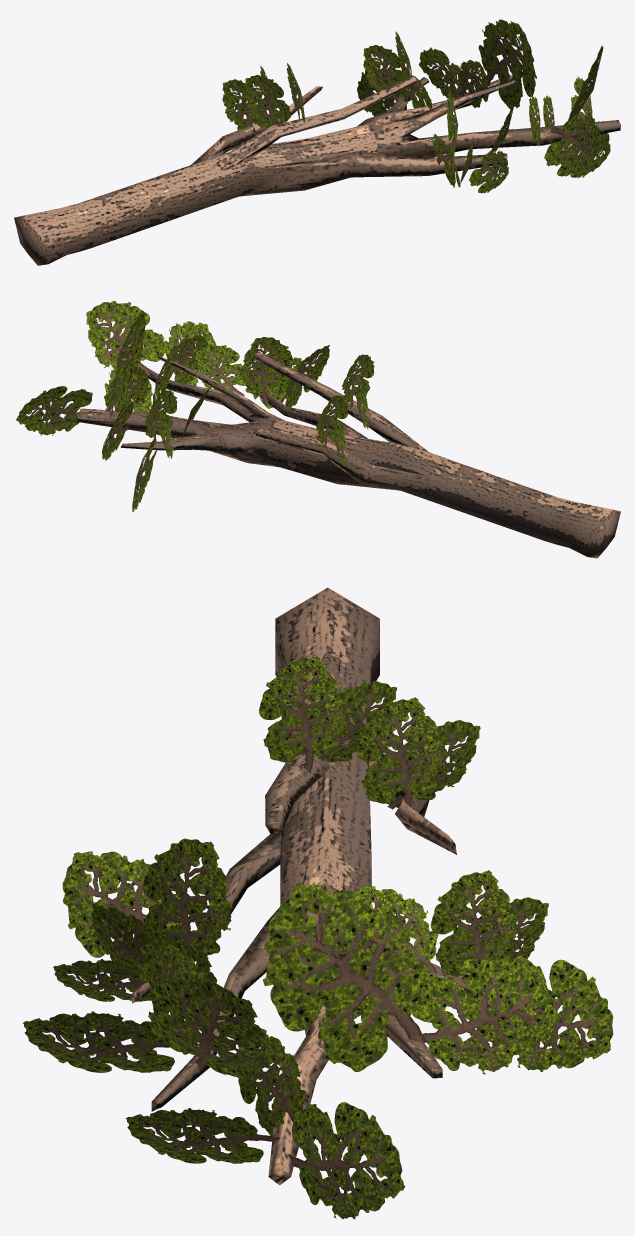
File: FallenTree.fbx
3 views of the same model, one above another, from view 1: azimuth 30°, elevation 25°; view 2: azimuth 150°, elevation 25°; view 3: azimuth 270°, elevation 25° (orthographic). The views are drawn at different scales.
Parts seen in each view (by area): view 1: polySurface8, pPlane15, pPlane8, pPlane22, pPlane19, pPlane14, pPlane20, pPlane4, pPlane13, pPlane16, pPlane2, pPlane18 (+6 smaller); view 2: polySurface8, pPlane7, pPlane10, pPlane3, pPlane15, pPlane5, pPlane9, pPlane2, pPlane8, pPlane23, pPlane21, pPlane17 (+5 smaller); view 3: polySurface8, pPlane15, pPlane14, pPlane10, pPlane7, pPlane3, pPlane16, pPlane23, pPlane21, pPlane8, pPlane17, pPlane2 (+10 smaller).
Part boxes in pixels (x1,y1,x2,y2): polySurface8: (14,75,620,265); pPlane15: (478,19,536,108); pPlane8: (544,114,601,176); pPlane22: (245,74,290,127); pPlane19: (363,45,403,100); pPlane14: (419,47,467,98); pPlane20: (222,79,267,135); pPlane4: (469,150,508,193); pPlane13: (458,60,488,107); pPlane16: (357,69,411,116); pPlane2: (432,134,460,187); pPlane18: (396,73,432,109); polySurface8: (76,352,620,558); pPlane7: (86,301,165,377); pPlane10: (16,386,92,435); pPlane3: (240,337,293,404); pPlane15: (110,311,145,418); pPlane5: (196,344,245,396); pPlane9: (164,334,208,383); pPlane2: (280,345,329,407); pPlane8: (164,321,215,385); pPlane23: (341,354,374,408); pPlane21: (315,395,348,447); pPlane17: (145,390,177,444); polySurface8: (131,587,509,1185); pPlane15: (262,882,429,1071); pPlane14: (411,959,559,1074); pPlane10: (287,1102,405,1219); pPlane7: (148,976,267,1079); pPlane3: (142,838,232,956); pPlane16: (487,955,613,1071); pPlane23: (258,656,346,773); pPlane21: (357,697,444,807); pPlane8: (23,1011,174,1072); pPlane17: (430,870,518,976); pPlane2: (62,851,180,966).
Bounding box in the file's own units: 2265 × 574 × 1091.
